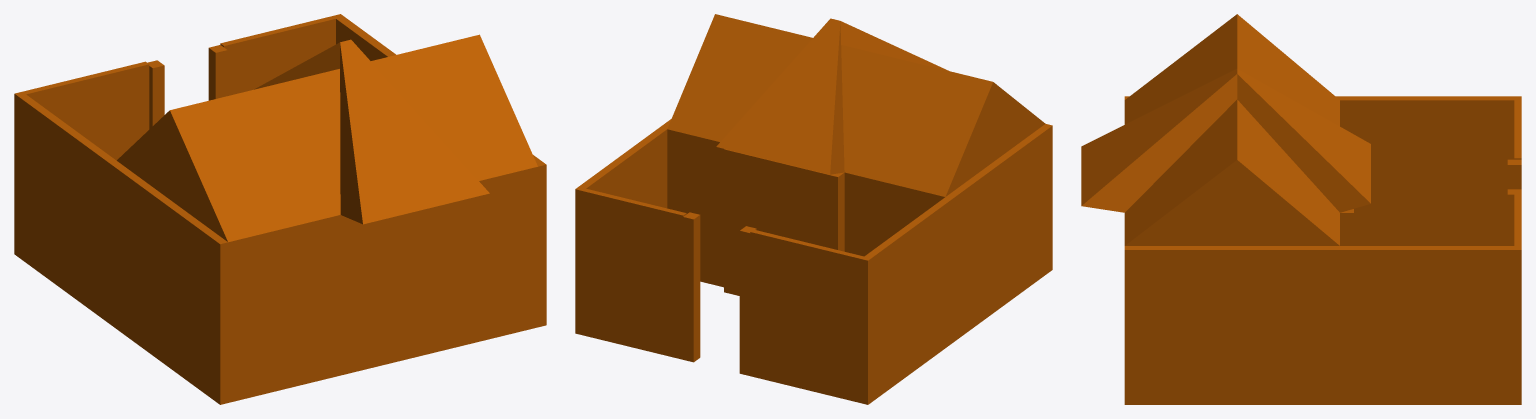
The model's file is haus.fbx.
3 views of the same model, side by side, from view 1: azimuth 30°, elevation 25°; view 2: azimuth 150°, elevation 25°; view 3: azimuth 270°, elevation 25° (orthographic). The views are drawn at different scales.
Visible parts, largest first — view 1: Cube.076, Cube.012, Cube.008, Cube.014, Cube.060, Cube.062, Cube.063, Cube.072, Cube.005, Cube.013, Cube.059, Cube.061 (+27 smaller); view 2: Cube.076, Cube.002, Cube.001, Cube.037, Cube.012, Cube.071, Cube.005, Cube.064, Cube.067, Cube.072, Cube.073, Cube.008 (+57 smaller); view 3: Cube.076, Cube.037, Cube.027, Cube.017, Cube.020, Cube.021, Cube.022, Cube.023, Cube.024, Cube.025, Cube.026, Cube.028 (+35 smaller).
Part boxes in pixels (x1=…): Cube.076: x1=14, y1=34, x2=537, y2=251; Cube.012: x1=14, y1=247, x2=546, y2=404; Cube.008: x1=14, y1=232, x2=537, y2=390; Cube.014: x1=14, y1=218, x2=537, y2=375; Cube.060: x1=14, y1=203, x2=537, y2=360; Cube.062: x1=14, y1=189, x2=537, y2=346; Cube.063: x1=14, y1=181, x2=537, y2=339; Cube.072: x1=14, y1=123, x2=537, y2=280; Cube.005: x1=14, y1=240, x2=537, y2=397; Cube.013: x1=14, y1=225, x2=537, y2=382; Cube.059: x1=14, y1=211, x2=537, y2=368; Cube.061: x1=14, y1=196, x2=537, y2=353; Cube.076: x1=667, y1=14, x2=1052, y2=287; Cube.002: x1=724, y1=149, x2=827, y2=295; Cube.001: x1=683, y1=212, x2=700, y2=362; Cube.037: x1=575, y1=119, x2=686, y2=221; Cube.012: x1=575, y1=263, x2=1052, y2=404; Cube.071: x1=739, y1=226, x2=756, y2=375; Cube.005: x1=861, y1=257, x2=1052, y2=398; Cube.064: x1=861, y1=198, x2=1052, y2=339; Cube.067: x1=861, y1=178, x2=1052, y2=319; Cube.072: x1=861, y1=152, x2=1052, y2=293; Cube.073: x1=861, y1=145, x2=1052, y2=286; Cube.008: x1=861, y1=250, x2=1052, y2=391; Cube.076: x1=1081, y1=14, x2=1521, y2=245; Cube.037: x1=1124, y1=193, x2=1521, y2=256; Cube.027: x1=1124, y1=320, x2=1521, y2=327; Cube.017: x1=1124, y1=376, x2=1521, y2=383; Cube.020: x1=1124, y1=369, x2=1521, y2=376; Cube.021: x1=1124, y1=362, x2=1521, y2=369; Cube.022: x1=1124, y1=355, x2=1521, y2=362; Cube.023: x1=1124, y1=348, x2=1521, y2=355; Cube.024: x1=1124, y1=341, x2=1521, y2=348; Cube.025: x1=1124, y1=334, x2=1521, y2=341; Cube.026: x1=1124, y1=327, x2=1521, y2=334; Cube.028: x1=1124, y1=313, x2=1521, y2=320.
Size of the model in its own units: 1728 by 1399 by 2093.
